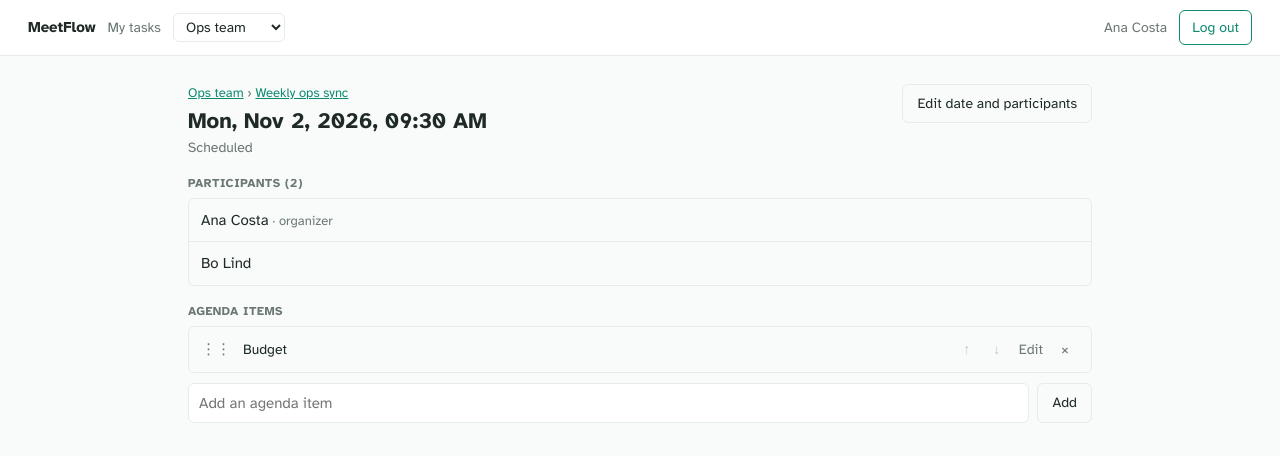
the agenda › lets the organizer rename an item
The image size is (1280, 456).
Click the button with aria-label "Edit Budget": [1031, 349] box x1=1013 y1=336 x2=1049 y2=362
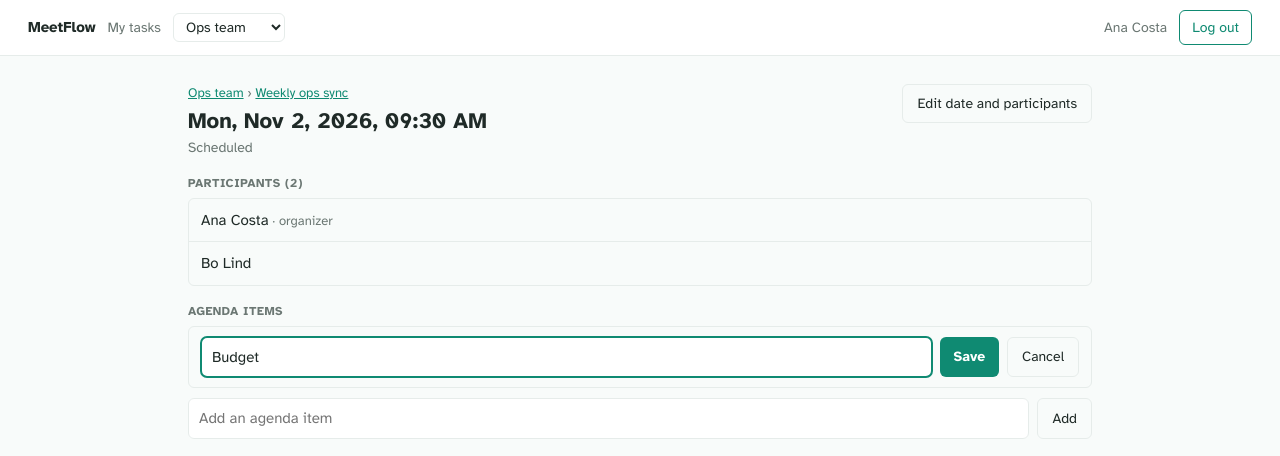
Replace the text in the field named "New title for Budget" with "Budget 2027": [566, 357] box x1=201 y1=336 x2=932 y2=377
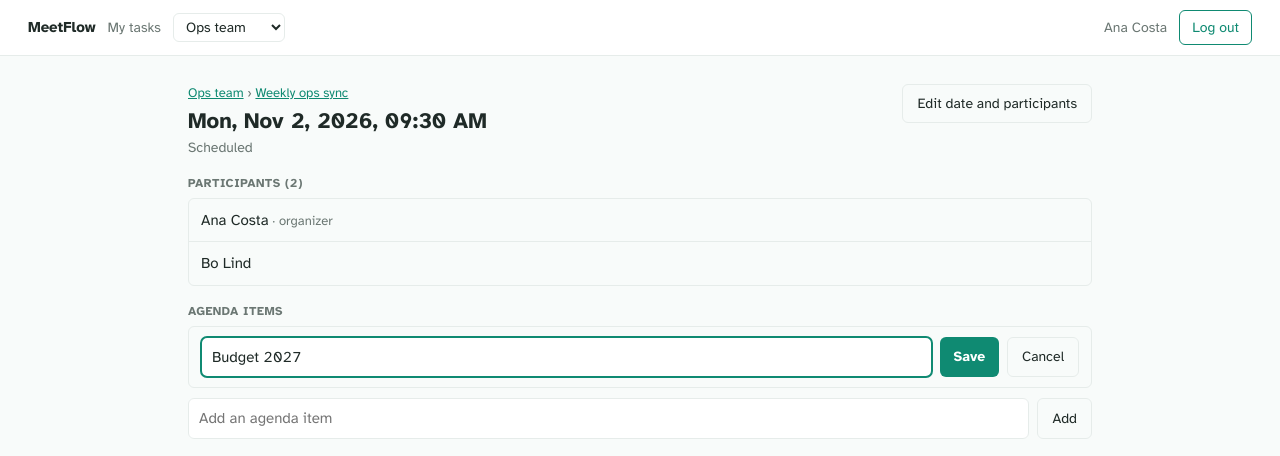
Click the button "Save": [969, 357] box x1=940 y1=336 x2=999 y2=377
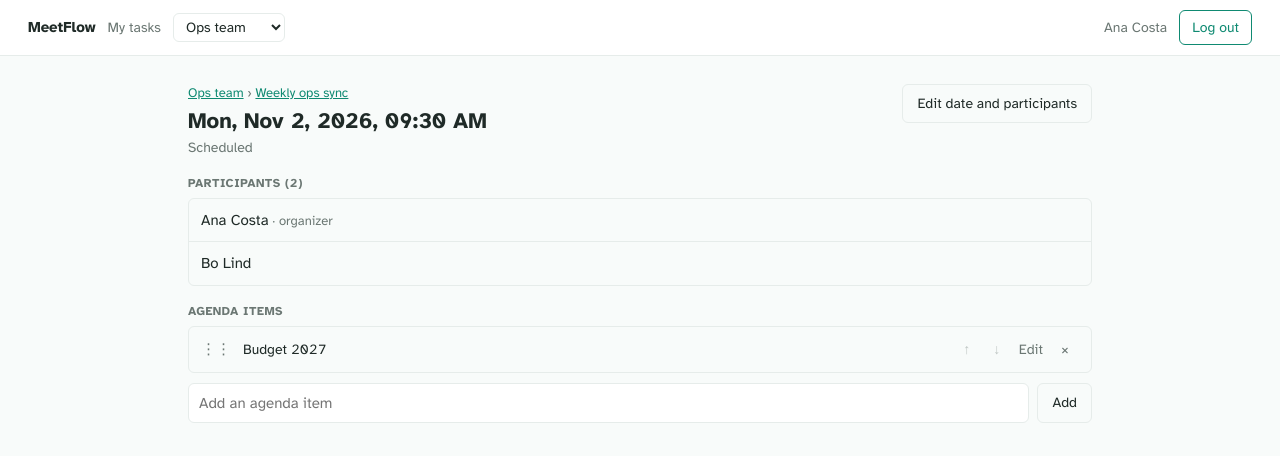
Result: the text "Budget 2027" is shown at x1=243 y1=340 x2=327 y2=358
Result: the button "Save" is gone
